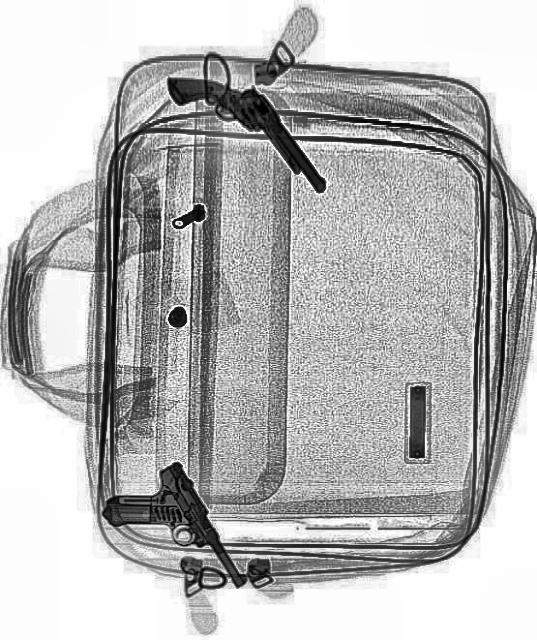Gun: (160, 33, 326, 233), (99, 455, 247, 631)
